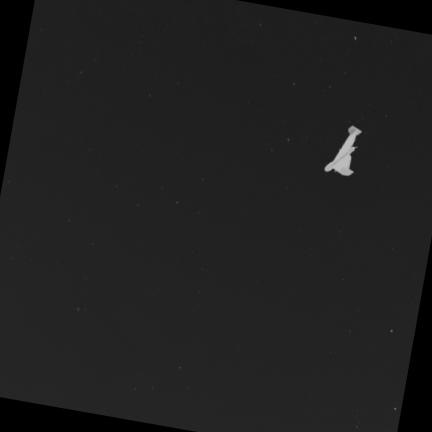Shahed: (325, 127, 361, 176)
